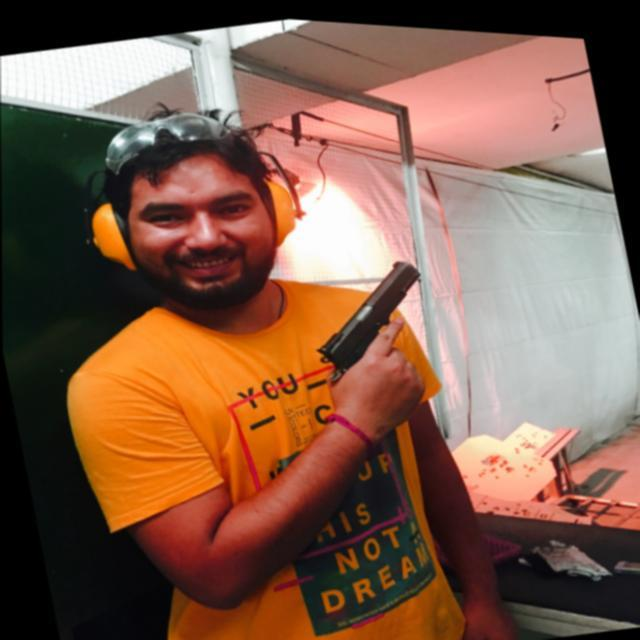weapon: (296, 241, 449, 418)
